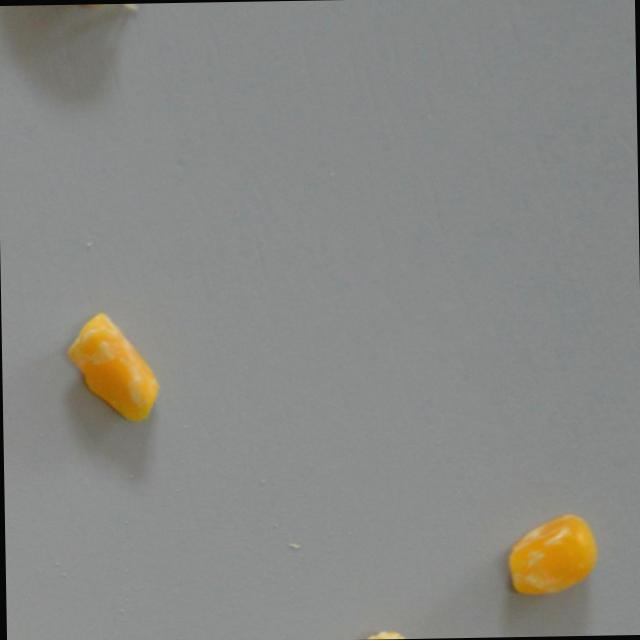dañado: (60, 306, 162, 427), (497, 512, 603, 597), (0, 3, 142, 21), (343, 625, 427, 640)
